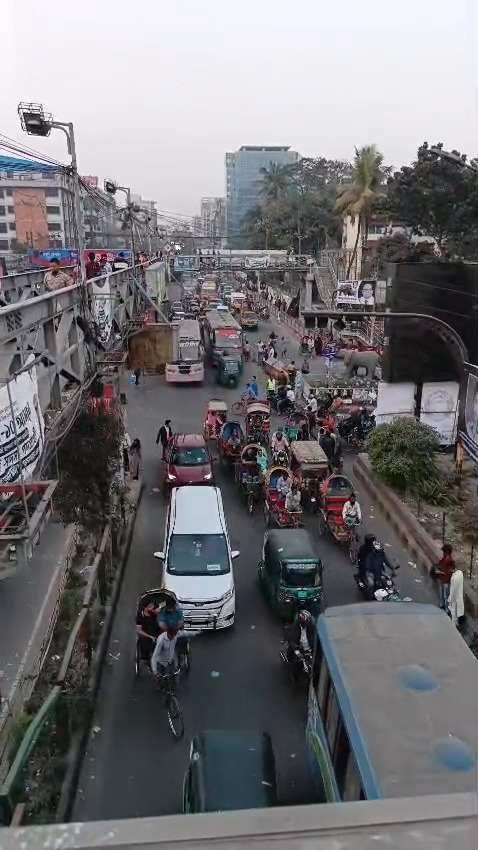cng: (256, 523, 335, 623)
